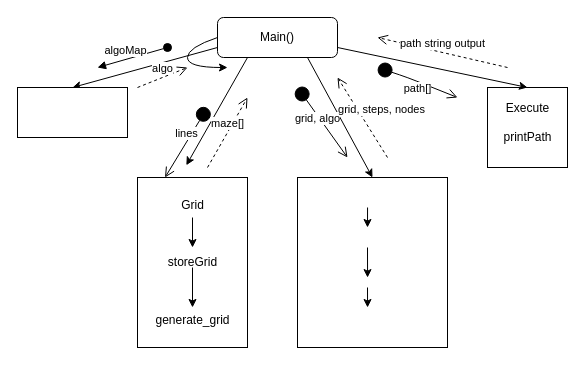
The diagram is 585 pixels wide and 365 high, and some of its shapes have lost their labels. Each missing label, with the box of its shape:
Class Algo: (16, 86, 128, 138)
SearchMethods MazeSearch__init__ solve() solveAG / iddfs / astar: (296, 176, 448, 348)
